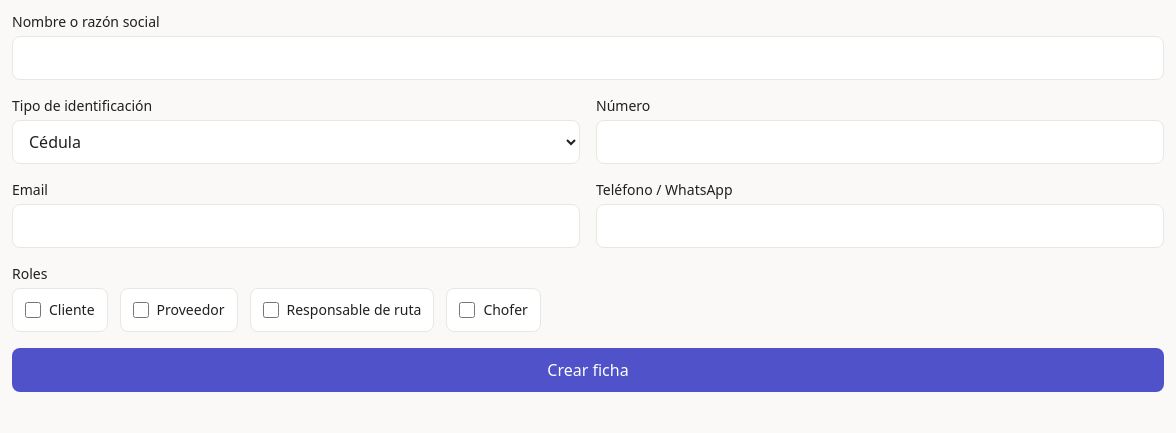
Test: FichaForm › mapea el error del backend al campo del número
In the field labelled "Nombre o razón social": (588, 58) x1=12 y1=36 x2=1164 y2=80, type "X"
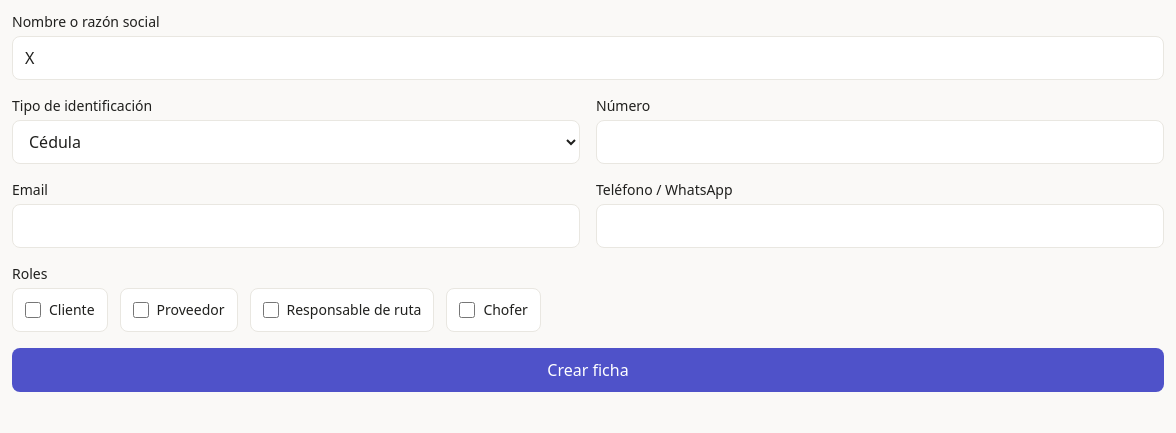
In the field labelled "Número": (880, 142) x1=596 y1=120 x2=1164 y2=164, type "1710034060"
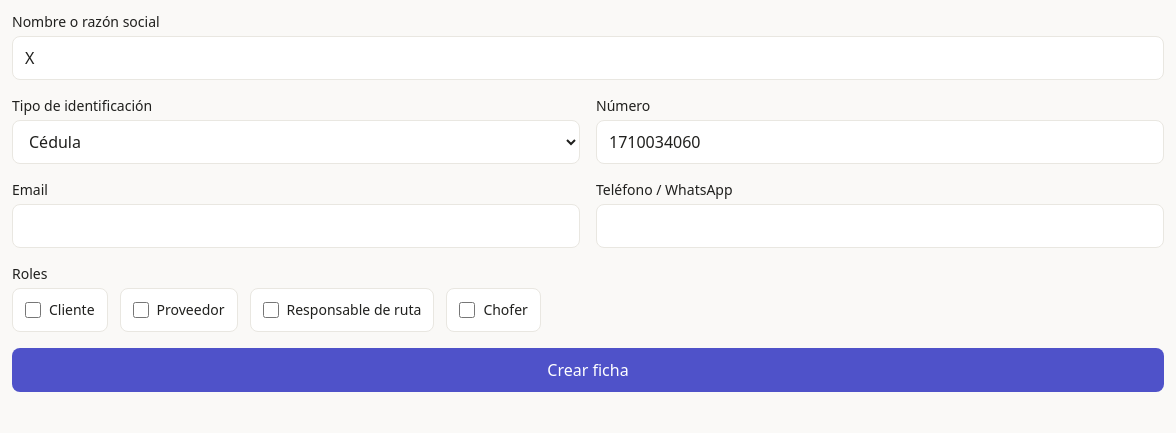
Click the checkbox labelled "Cliente": (33, 310) x1=25 y1=302 x2=41 y2=318
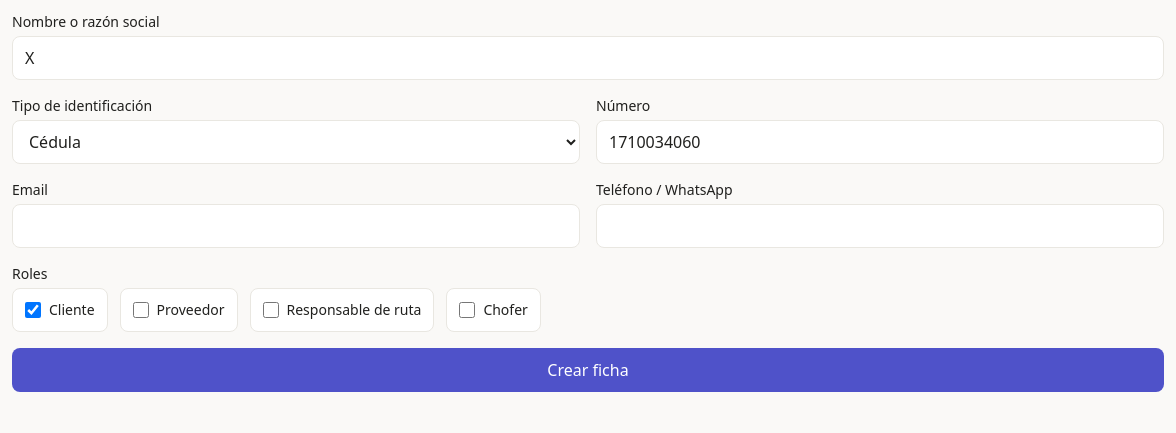
Click the button "Crear ficha": (588, 370) x1=12 y1=348 x2=1164 y2=392
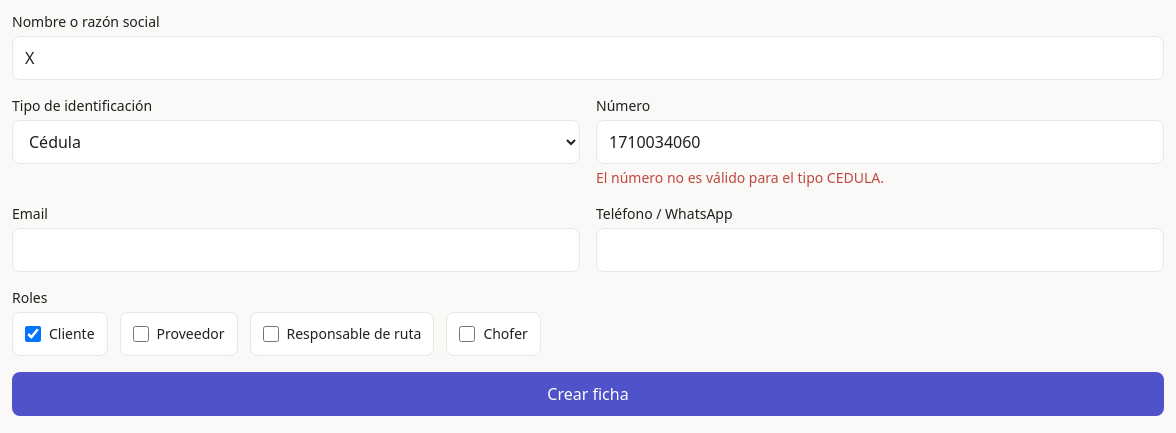
expect the text "El número no es válido para el tipo CEDULA." is shown: met, box x1=596 y1=168 x2=884 y2=187
